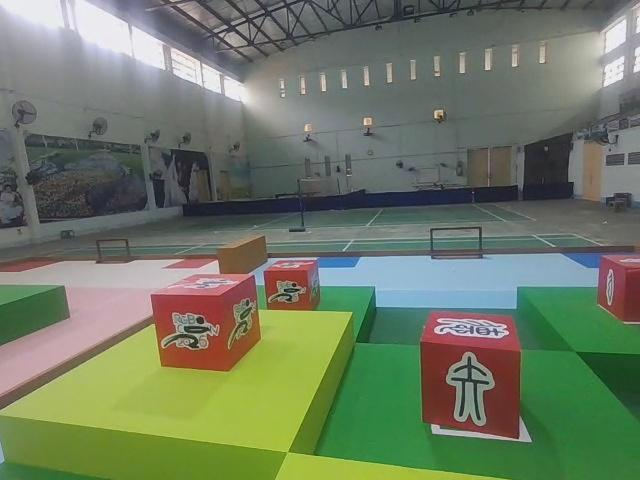R1: (147, 272, 263, 373), (264, 256, 322, 313)
R2 Fake: (419, 313, 523, 440)
R2 Real: (595, 252, 640, 324)
